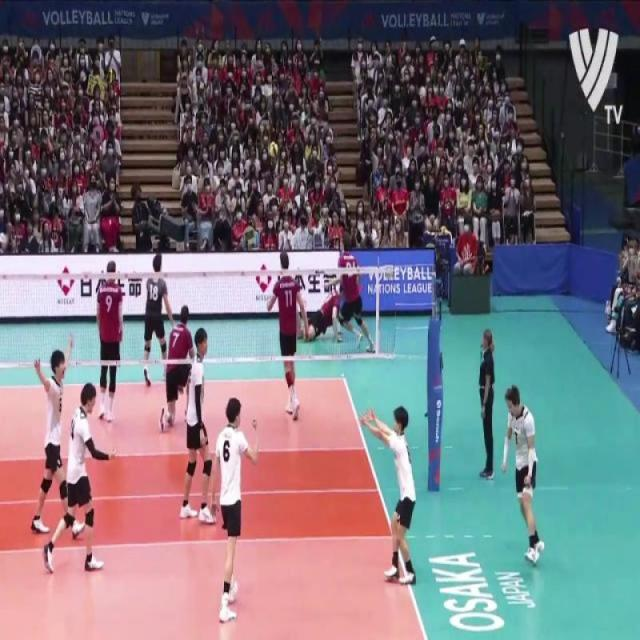volleyball: (268, 142, 280, 158)
